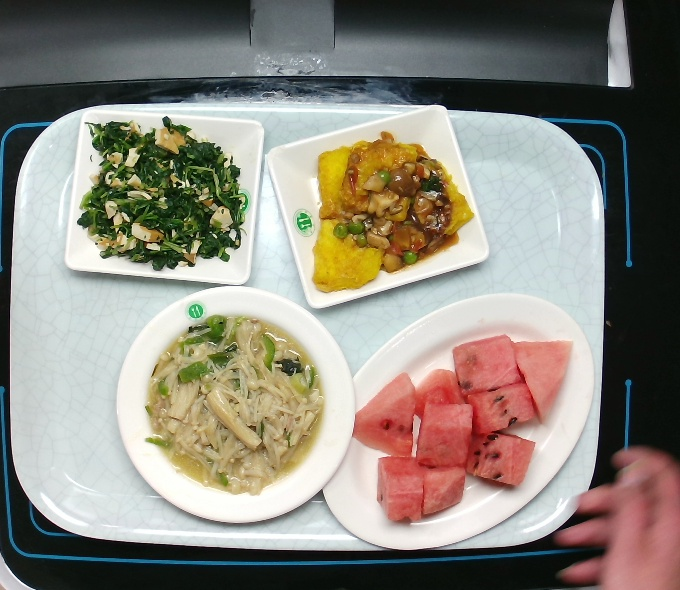wcq-CuiPiDouFu: (306, 128, 477, 295)
wcq-JinZhenGu: (144, 312, 328, 498)
wcq-MaLanTouChaoDouGan: (79, 114, 249, 269)
wcq-XiGua: (352, 332, 575, 527)
